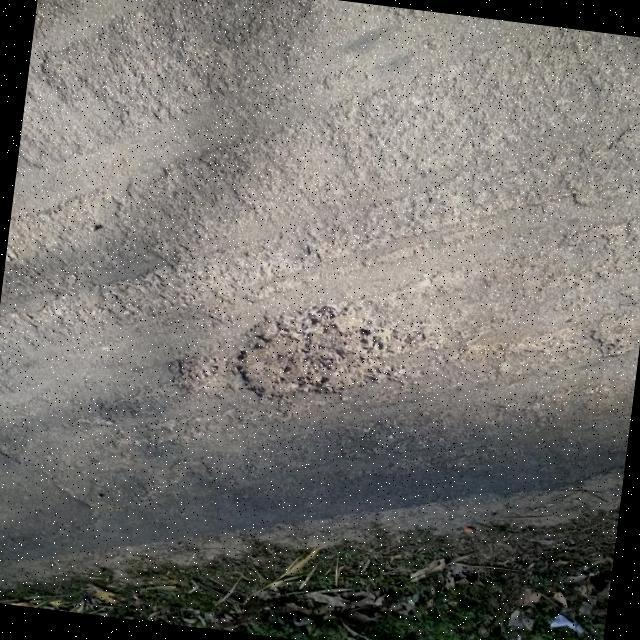Pothole: (236, 302, 446, 398)
